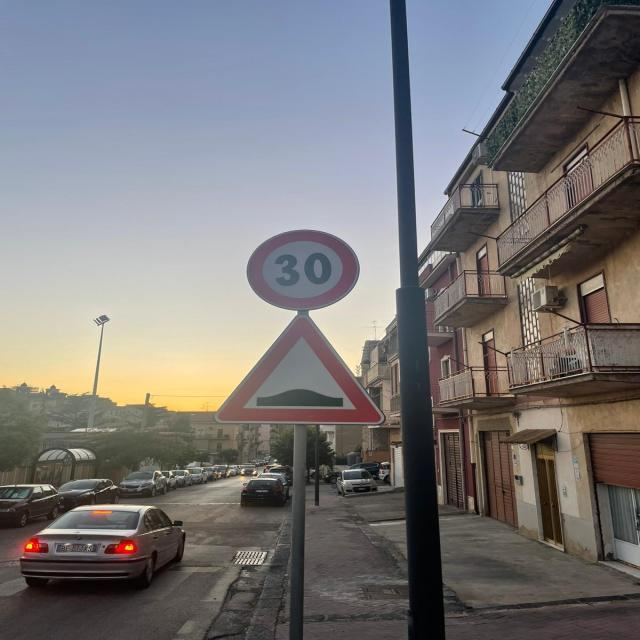forb_speed_over_30: (245, 228, 362, 312)
